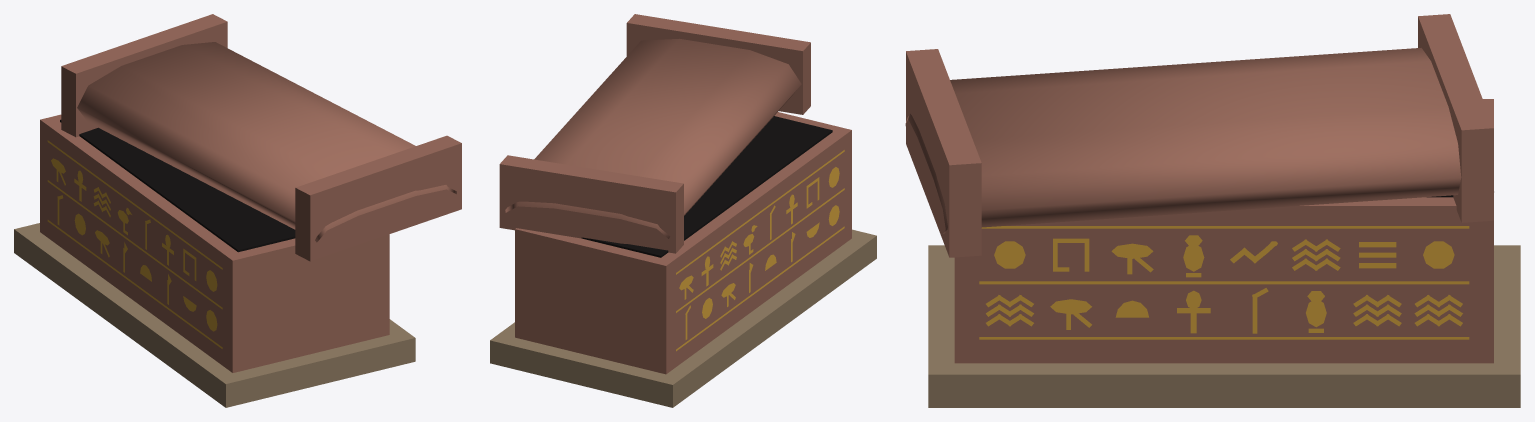
The model's file is sarcophagus.glb.
The picture shows the model from 3 angles, left to right: view 1: azimuth 30°, elevation 25°; view 2: azimuth 150°, elevation 25°; view 3: azimuth 270°, elevation 25°; orthographic projection. The views are drawn at different scales.
Visible parts, largest first — view 1: sarcophagus; view 2: sarcophagus; view 3: sarcophagus.
Part boxes in pixels (x1,y1,x2,y2): sarcophagus: (14,14,461,407); sarcophagus: (490,14,876,407); sarcophagus: (905,14,1520,407).
Size of the model in its own units: 1.93 by 1.51 by 3.01.
